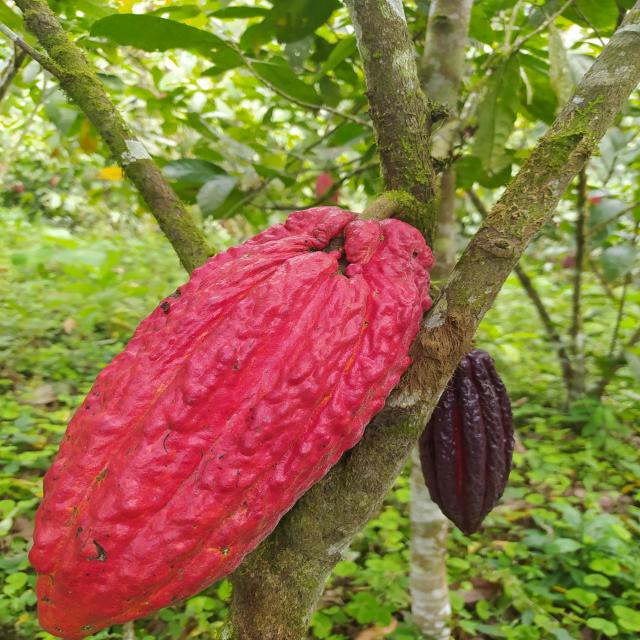Sana: (0, 205, 434, 639), (418, 345, 514, 535)
